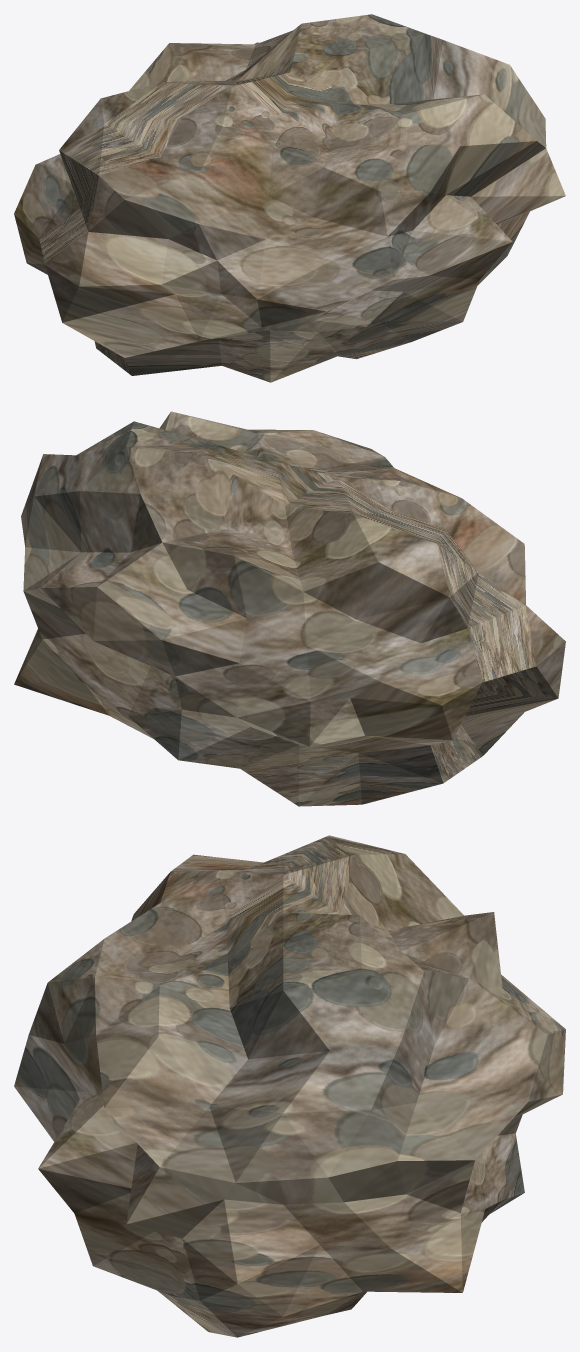
The model's file is nagelfluh_felsbrocken_02.glb.
3 views of the same model, one above another, from view 1: azimuth 30°, elevation 25°; view 2: azimuth 150°, elevation 25°; view 3: azimuth 270°, elevation 25° (orthographic). The views are drawn at different scales.
Visible parts, largest first — view 1: natural_conglomerate; view 2: natural_conglomerate; view 3: natural_conglomerate.
Part boxes in pixels (bbox=[...]): natural_conglomerate: bbox=[14, 14, 565, 382]; natural_conglomerate: bbox=[14, 411, 565, 806]; natural_conglomerate: bbox=[14, 835, 565, 1337].
Size of the model in its own units: 4 by 2.33 by 3.02.
Materials: 1 (1 with a texture image).
